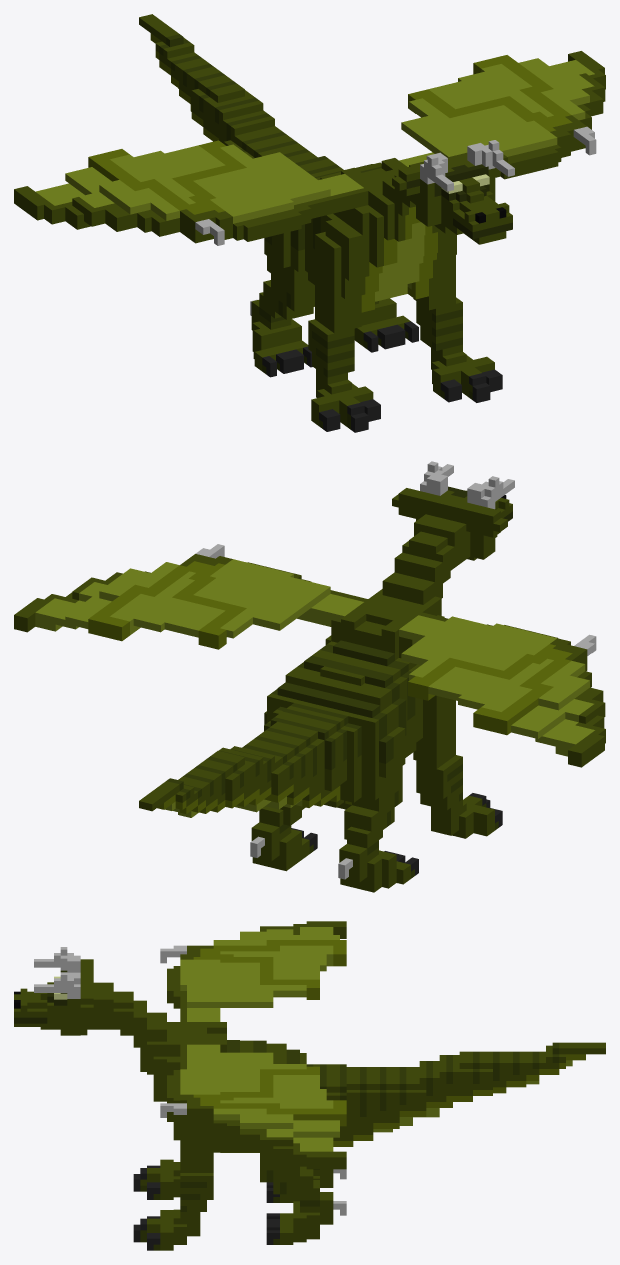
The model's file is green_dragon.glb.
The picture shows the model from 3 angles, top to bottom: view 1: azimuth 30°, elevation 25°; view 2: azimuth 150°, elevation 25°; view 3: azimuth 270°, elevation 25°; orthographic projection. The views are drawn at different scales.
Bounding box in the file's own units: 1.68 × 0.84 × 1.78.
